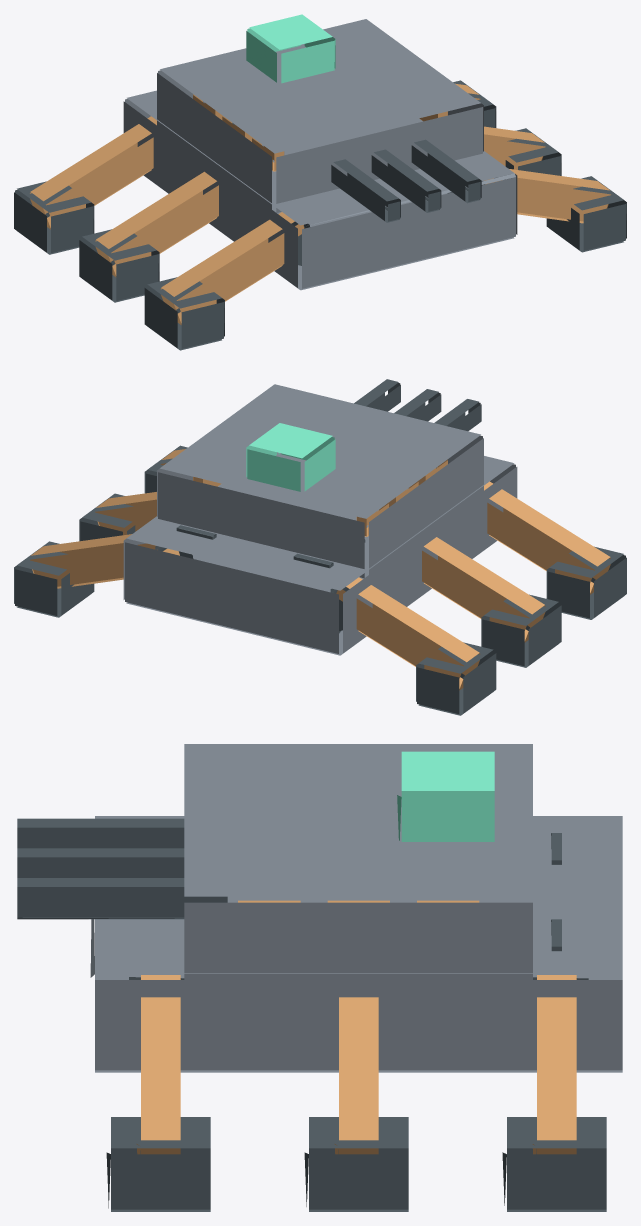
File: boss-walker.glb
The picture shows the model from 3 angles, top to bottom: view 1: azimuth 30°, elevation 25°; view 2: azimuth 150°, elevation 25°; view 3: azimuth 270°, elevation 25°; orthographic projection. The views are drawn at different scales.
Visible parts, largest first — view 1: Carapace, Chassis, Strut, Strut.004, Strut.002, Core, Foot, Foot.002, Foot.004, Strut.001, Foot.001, Cannon.002 (+5 smaller); view 2: Carapace, Chassis, Strut.004, Strut, Strut.002, Core, Foot.004, Foot.002, Foot, Strut.005, Foot.005, Strut.003 (+5 smaller); view 3: Carapace, Chassis, Core, Foot.001, Foot.003, Foot.005, Cannon.002, Strut.001, Strut.005, Strut.003, Cannon, Cannon.001.
Part boxes in pixels (x1,y1,x2,y2): Carapace: [157, 19, 483, 213]; Chassis: [123, 90, 517, 290]; Strut: [161, 212, 304, 324]; Strut.004: [30, 116, 156, 229]; Strut.002: [95, 171, 218, 277]; Core: [246, 14, 335, 83]; Foot: [144, 277, 224, 350]; Foot.002: [79, 229, 159, 302]; Foot.004: [14, 181, 94, 254]; Strut.001: [484, 169, 611, 223]; Foot.001: [546, 176, 626, 252]; Cannon.002: [411, 139, 481, 203]; Carapace: [157, 384, 483, 578]; Chassis: [123, 456, 517, 655]; Strut.004: [336, 577, 480, 690]; Strut: [484, 481, 610, 594]; Strut.002: [422, 537, 545, 642]; Core: [246, 423, 335, 491]; Foot.004: [416, 642, 496, 715]; Foot.002: [481, 594, 561, 667]; Foot: [546, 546, 626, 619]; Strut.005: [30, 534, 179, 588]; Foot.005: [14, 541, 94, 617]; Strut.003: [95, 492, 156, 535]; Carapace: [184, 744, 532, 979]; Chassis: [90, 816, 622, 1072]; Core: [397, 751, 494, 841]; Foot.001: [106, 1117, 210, 1211]; Foot.003: [304, 1117, 408, 1211]; Foot.005: [502, 1117, 606, 1211]; Cannon.002: [17, 878, 227, 919]; Strut.001: [136, 975, 180, 1154]; Strut.005: [532, 975, 576, 1154]; Strut.003: [334, 997, 378, 1154]; Cannon: [17, 818, 184, 848]; Cannon.001: [17, 848, 184, 877].
Bounding box in the file's own units: 6.15 × 2.39 × 4.8.
